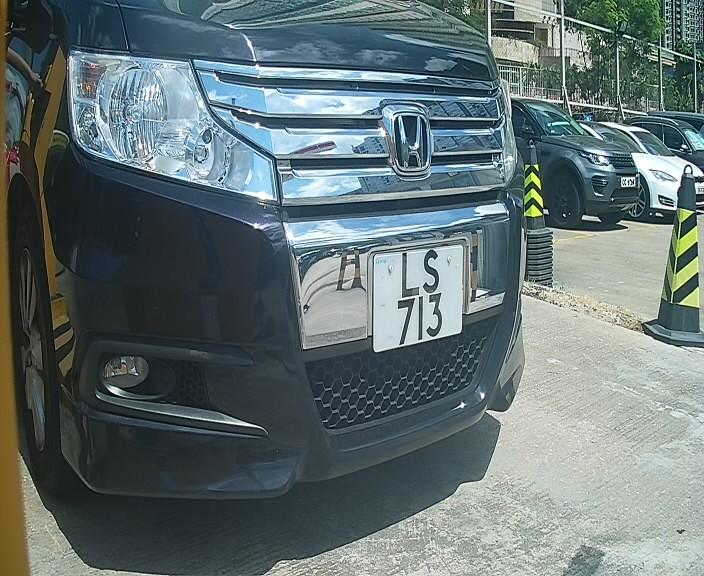privatecar: (16, 29, 544, 497)
